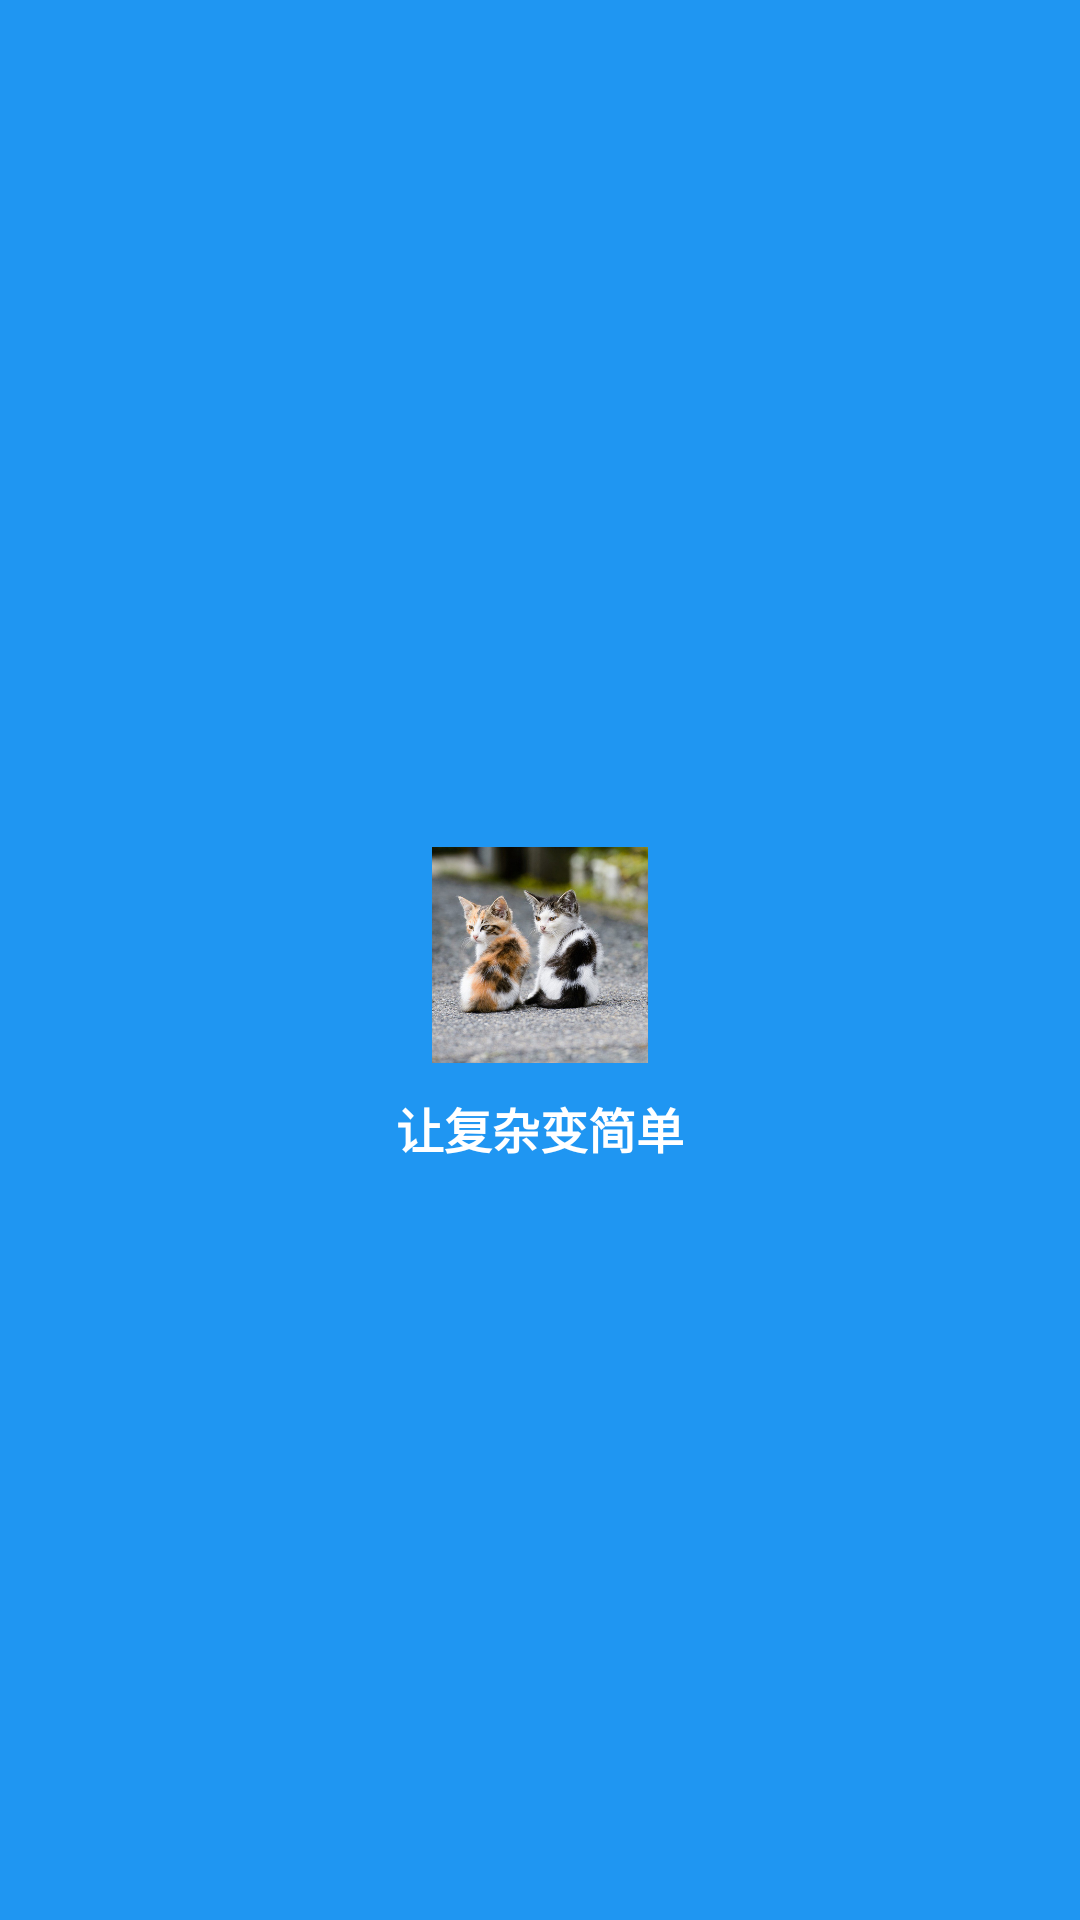

Point at icon controls on the screen. Image size 1080×1920, points as point (x, y).
head: point (540, 955)
